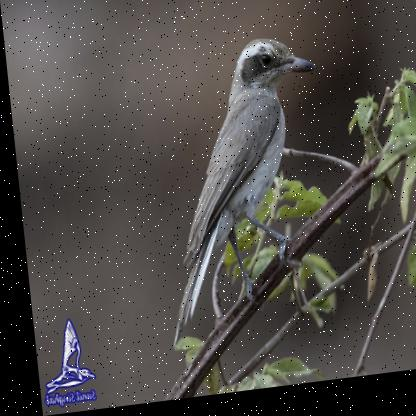Burung: (144, 39, 335, 346)
